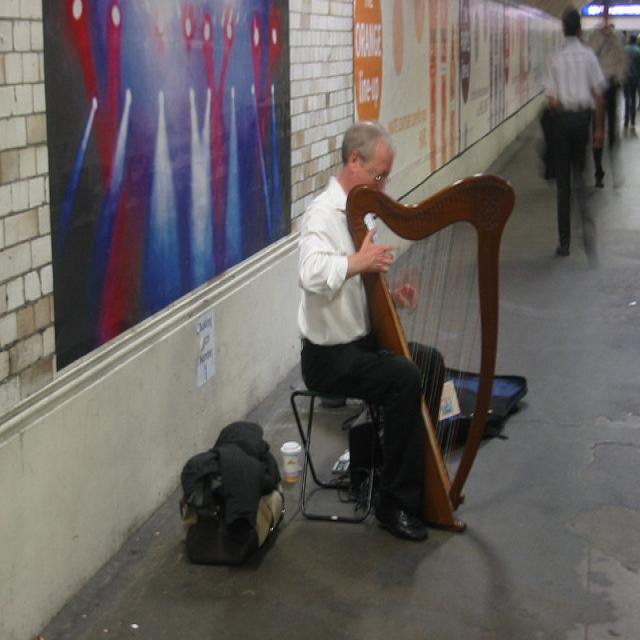harp: (344, 174, 520, 536)
